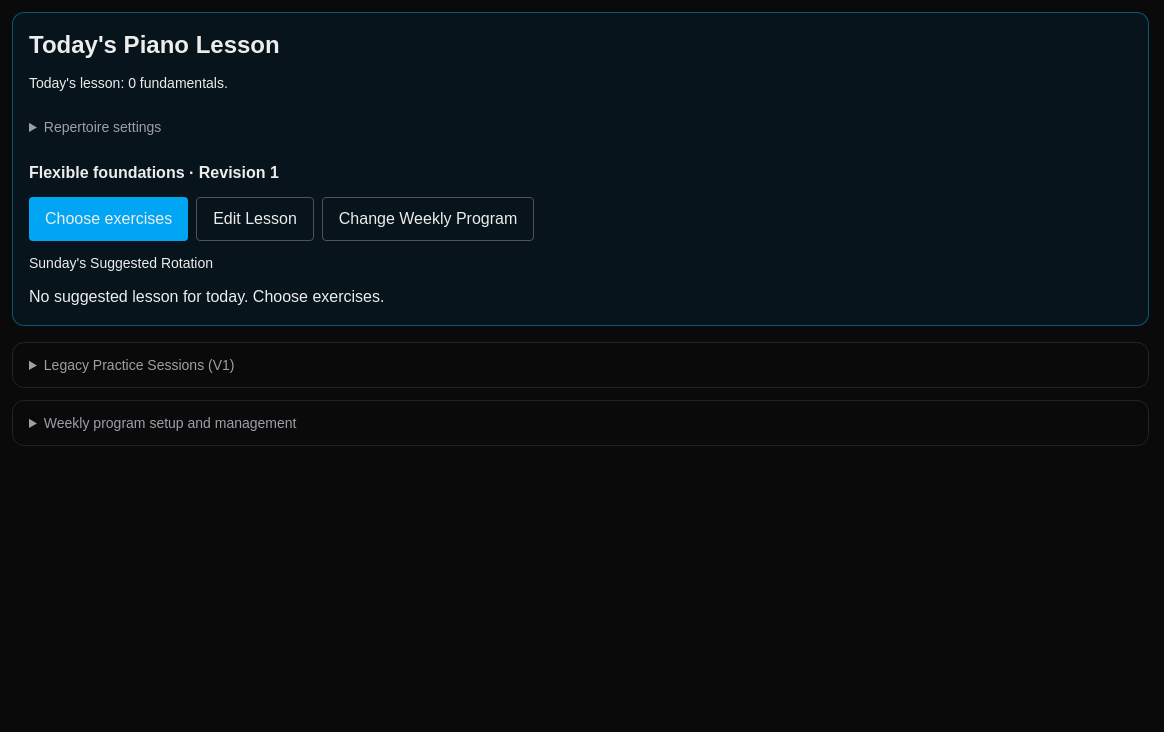
Test: one-action morning launch through the existing V2 owner › uses manual selection for a missing rotation without inventing attempts
Expected: the text "No suggested lesson for today. Choose exercises." is shown, [29,288,384,305]
Click the button "Choose exercises" at (109,219), box [29,197,188,241]
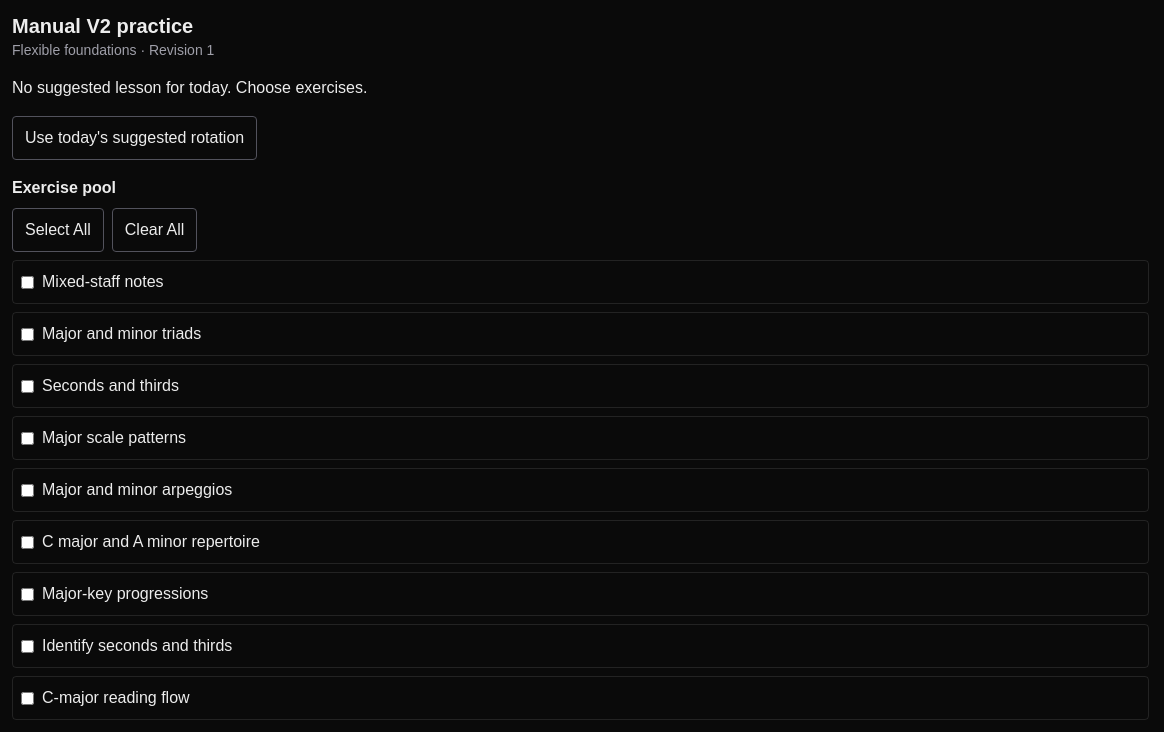
Result: the element "Exercise pool" is shown
